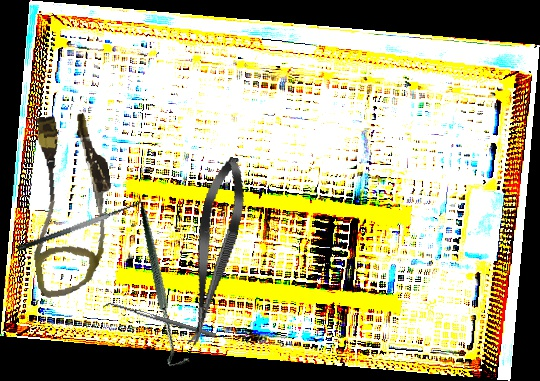Cannula: (14, 108, 126, 300)
Hook Surgical: (100, 204, 228, 372)
Micro Scissor: (174, 153, 254, 350)
Spatula Surgical: (12, 191, 145, 253), (102, 299, 217, 343)
